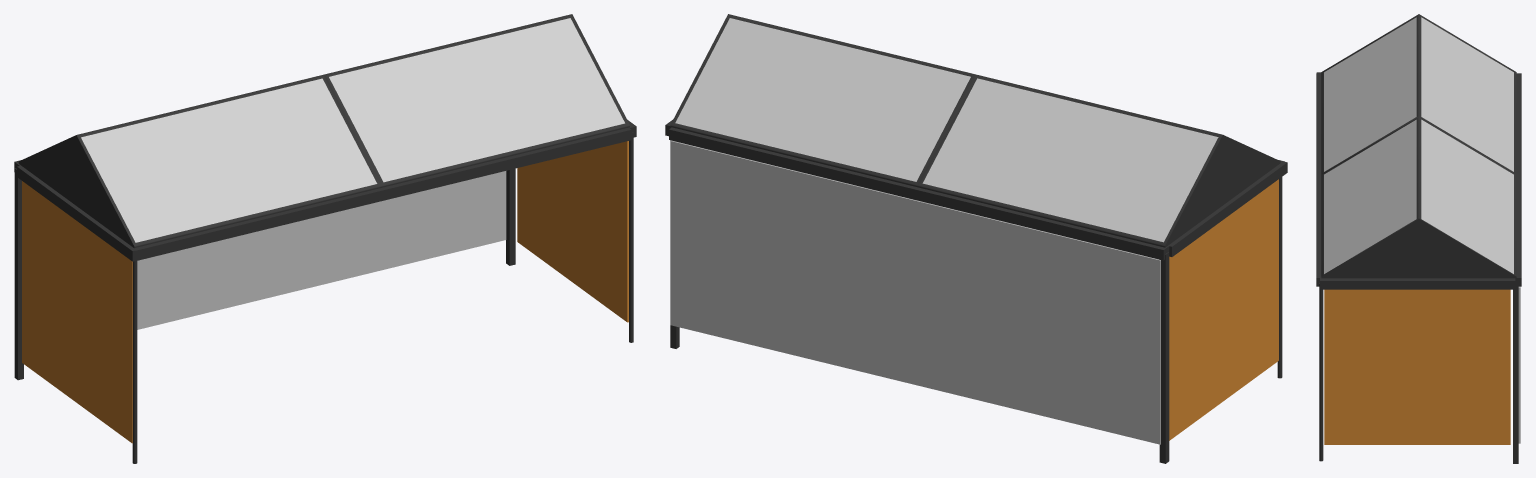
Rendered from Bushaltestelle_dach.fbx.
3 views of the same model, side by side, from view 1: azimuth 30°, elevation 25°; view 2: azimuth 150°, elevation 25°; view 3: azimuth 270°, elevation 25° (orthographic). The views are drawn at different scales.
Visible parts, largest first — view 1: glass, sides, metall; view 2: glass, metall, sides; view 3: glass, sides, metall.
Part boxes in pixels (<box>): glass: <box>81,18,624,329</box>; sides: <box>22,141,628,443</box>; metall: <box>14,14,636,463</box>; glass: <box>670,18,1218,444</box>; metall: <box>665,14,1287,463</box>; sides: <box>1169,179,1278,440</box>; glass: <box>1324,17,1520,443</box>; sides: <box>1324,289,1510,444</box>; metall: <box>1316,14,1521,463</box>.
Size of the model in its own units: 505 by 278 by 210.
